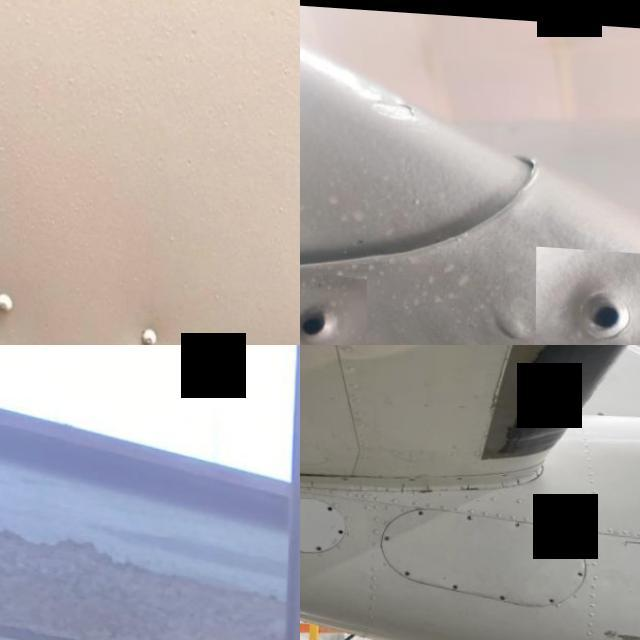Missing_Fastener: (536, 240, 640, 345), (300, 267, 367, 345), (327, 504, 334, 510), (419, 508, 424, 513), (338, 528, 344, 532), (404, 568, 410, 572), (453, 580, 459, 584), (563, 532, 569, 536), (549, 594, 555, 597)
